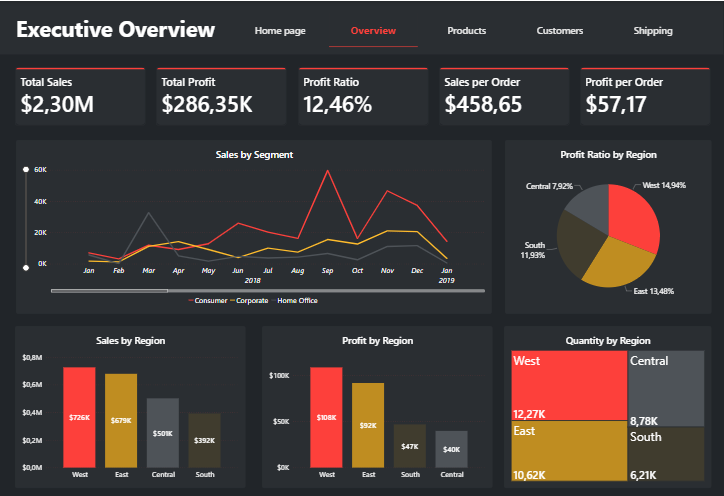

Layout of this report page (visuals, bound fields, positions):
{"tool":"powerbi","page":{"name":"Overview","canvas":[1600,1100],"ordinal":1},"visuals":[{"type":"card","fields":{"Values":["Data.Average Discount"]},"box":[0,0,1600,117.8],"z":0,"group":"g1"},{"type":"cardVisual","fields":{"Data":["Data.Total Sales"]},"box":[35.6,146.7,288.3,128.5],"z":0,"group":"g2"},{"type":"lineChart","title":"Sales by Segment","fields":{"Series":["Sample - Superstore_Orders.Segment"],"Category":["Calendar.Year Hierarchy.Year","Calendar.Year Hierarchy.Month"],"Y":["Sum(Sample - Superstore_Orders.Sales)"]},"box":[37.8,306.7,1051.1,384.4],"z":0},{"type":"cardVisual","fields":{"Data":["Data.Total Profit"]},"box":[347.8,146.7,288.3,128.5],"z":1000,"group":"g2"},{"type":"clusteredColumnChart","title":"Sales by Region","fields":{"Category":["Sample - Superstore_Orders.Region"],"Y":["Data.Total Sales"]},"box":[35.6,717.8,508.9,357.8],"z":1000},{"type":"group","id":"g1","title":"Group 2","box":[0,0,1600,117.8],"z":2000},{"type":"cardVisual","fields":{"Data":["Data.Profit Ratio"]},"box":[659.9,146.7,288.3,128.5],"z":2000,"group":"g2"},{"type":"group","id":"g2","title":"Group 1","box":[35.6,146.7,1537.8,128.9],"z":3000},{"type":"cardVisual","fields":{"Data":["Data.Sales per Order"]},"box":[972.1,146.7,288.3,128.5],"z":3000,"group":"g2"},{"type":"textbox","box":[37.9,26.5,469.3,72.9],"z":4000,"group":"g1"},{"type":"cardVisual","fields":{"Data":["Data.Profit per Order"]},"box":[1284.3,146.7,288.3,128.5],"z":4000,"group":"g2"},{"type":"pieChart","title":"Profit Ratio by Region","fields":{"Category":["Sample - Superstore_Orders.Region"],"Y":["Data.Profit Ratio"]},"box":[1117.8,306.7,455.6,384.4],"z":4000},{"type":"pageNavigator","box":[507.3,11,1050.1,106],"z":5000,"group":"g1"},{"type":"treemap","title":"Quantity by Region","fields":{"Group":["Sample - Superstore_Orders.Region"],"Values":["Data.Total Quantity"]},"box":[1115.6,717.8,457.8,357.8],"z":5000},{"type":"clusteredColumnChart","title":"Profit by Region","fields":{"Category":["Sample - Superstore_Orders.Region"],"Y":["Data.Total Profit"]},"box":[580,717.8,508.9,357.8],"z":6000}]}

Visuals, with their boxes in screenshot pixels (x1, y1, x2, y2), scaled from the page's 1600x1100 canvas onto the 724x496 screenshot:
card - Data.Average Discount: bbox=[0, 0, 723, 53]
cardVisual - Data.Total Sales: bbox=[16, 66, 147, 124]
"Sales by Segment" lineChart: bbox=[17, 138, 493, 312]
cardVisual - Data.Total Profit: bbox=[157, 66, 288, 124]
"Sales by Region" clusteredColumnChart: bbox=[16, 324, 246, 485]
"Group 2" group: bbox=[0, 0, 723, 53]
cardVisual - Data.Profit Ratio: bbox=[299, 66, 429, 124]
"Group 1" group: bbox=[16, 66, 712, 124]
cardVisual - Data.Sales per Order: bbox=[440, 66, 570, 124]
textbox: bbox=[17, 12, 230, 45]
cardVisual - Data.Profit per Order: bbox=[581, 66, 712, 124]
"Profit Ratio by Region" pieChart: bbox=[506, 138, 712, 312]
pageNavigator: bbox=[230, 5, 705, 53]
"Quantity by Region" treemap: bbox=[505, 324, 712, 485]
"Profit by Region" clusteredColumnChart: bbox=[262, 324, 493, 485]
